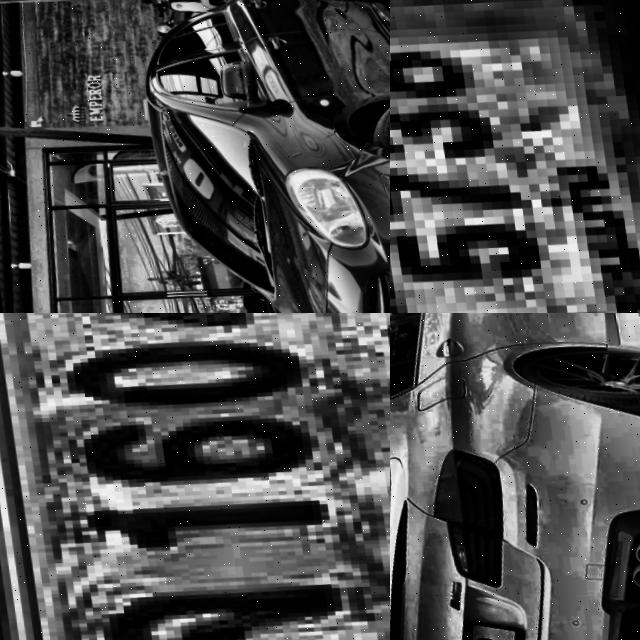license-plate: (0, 313, 390, 640), (390, 0, 640, 313), (438, 614, 530, 640)
